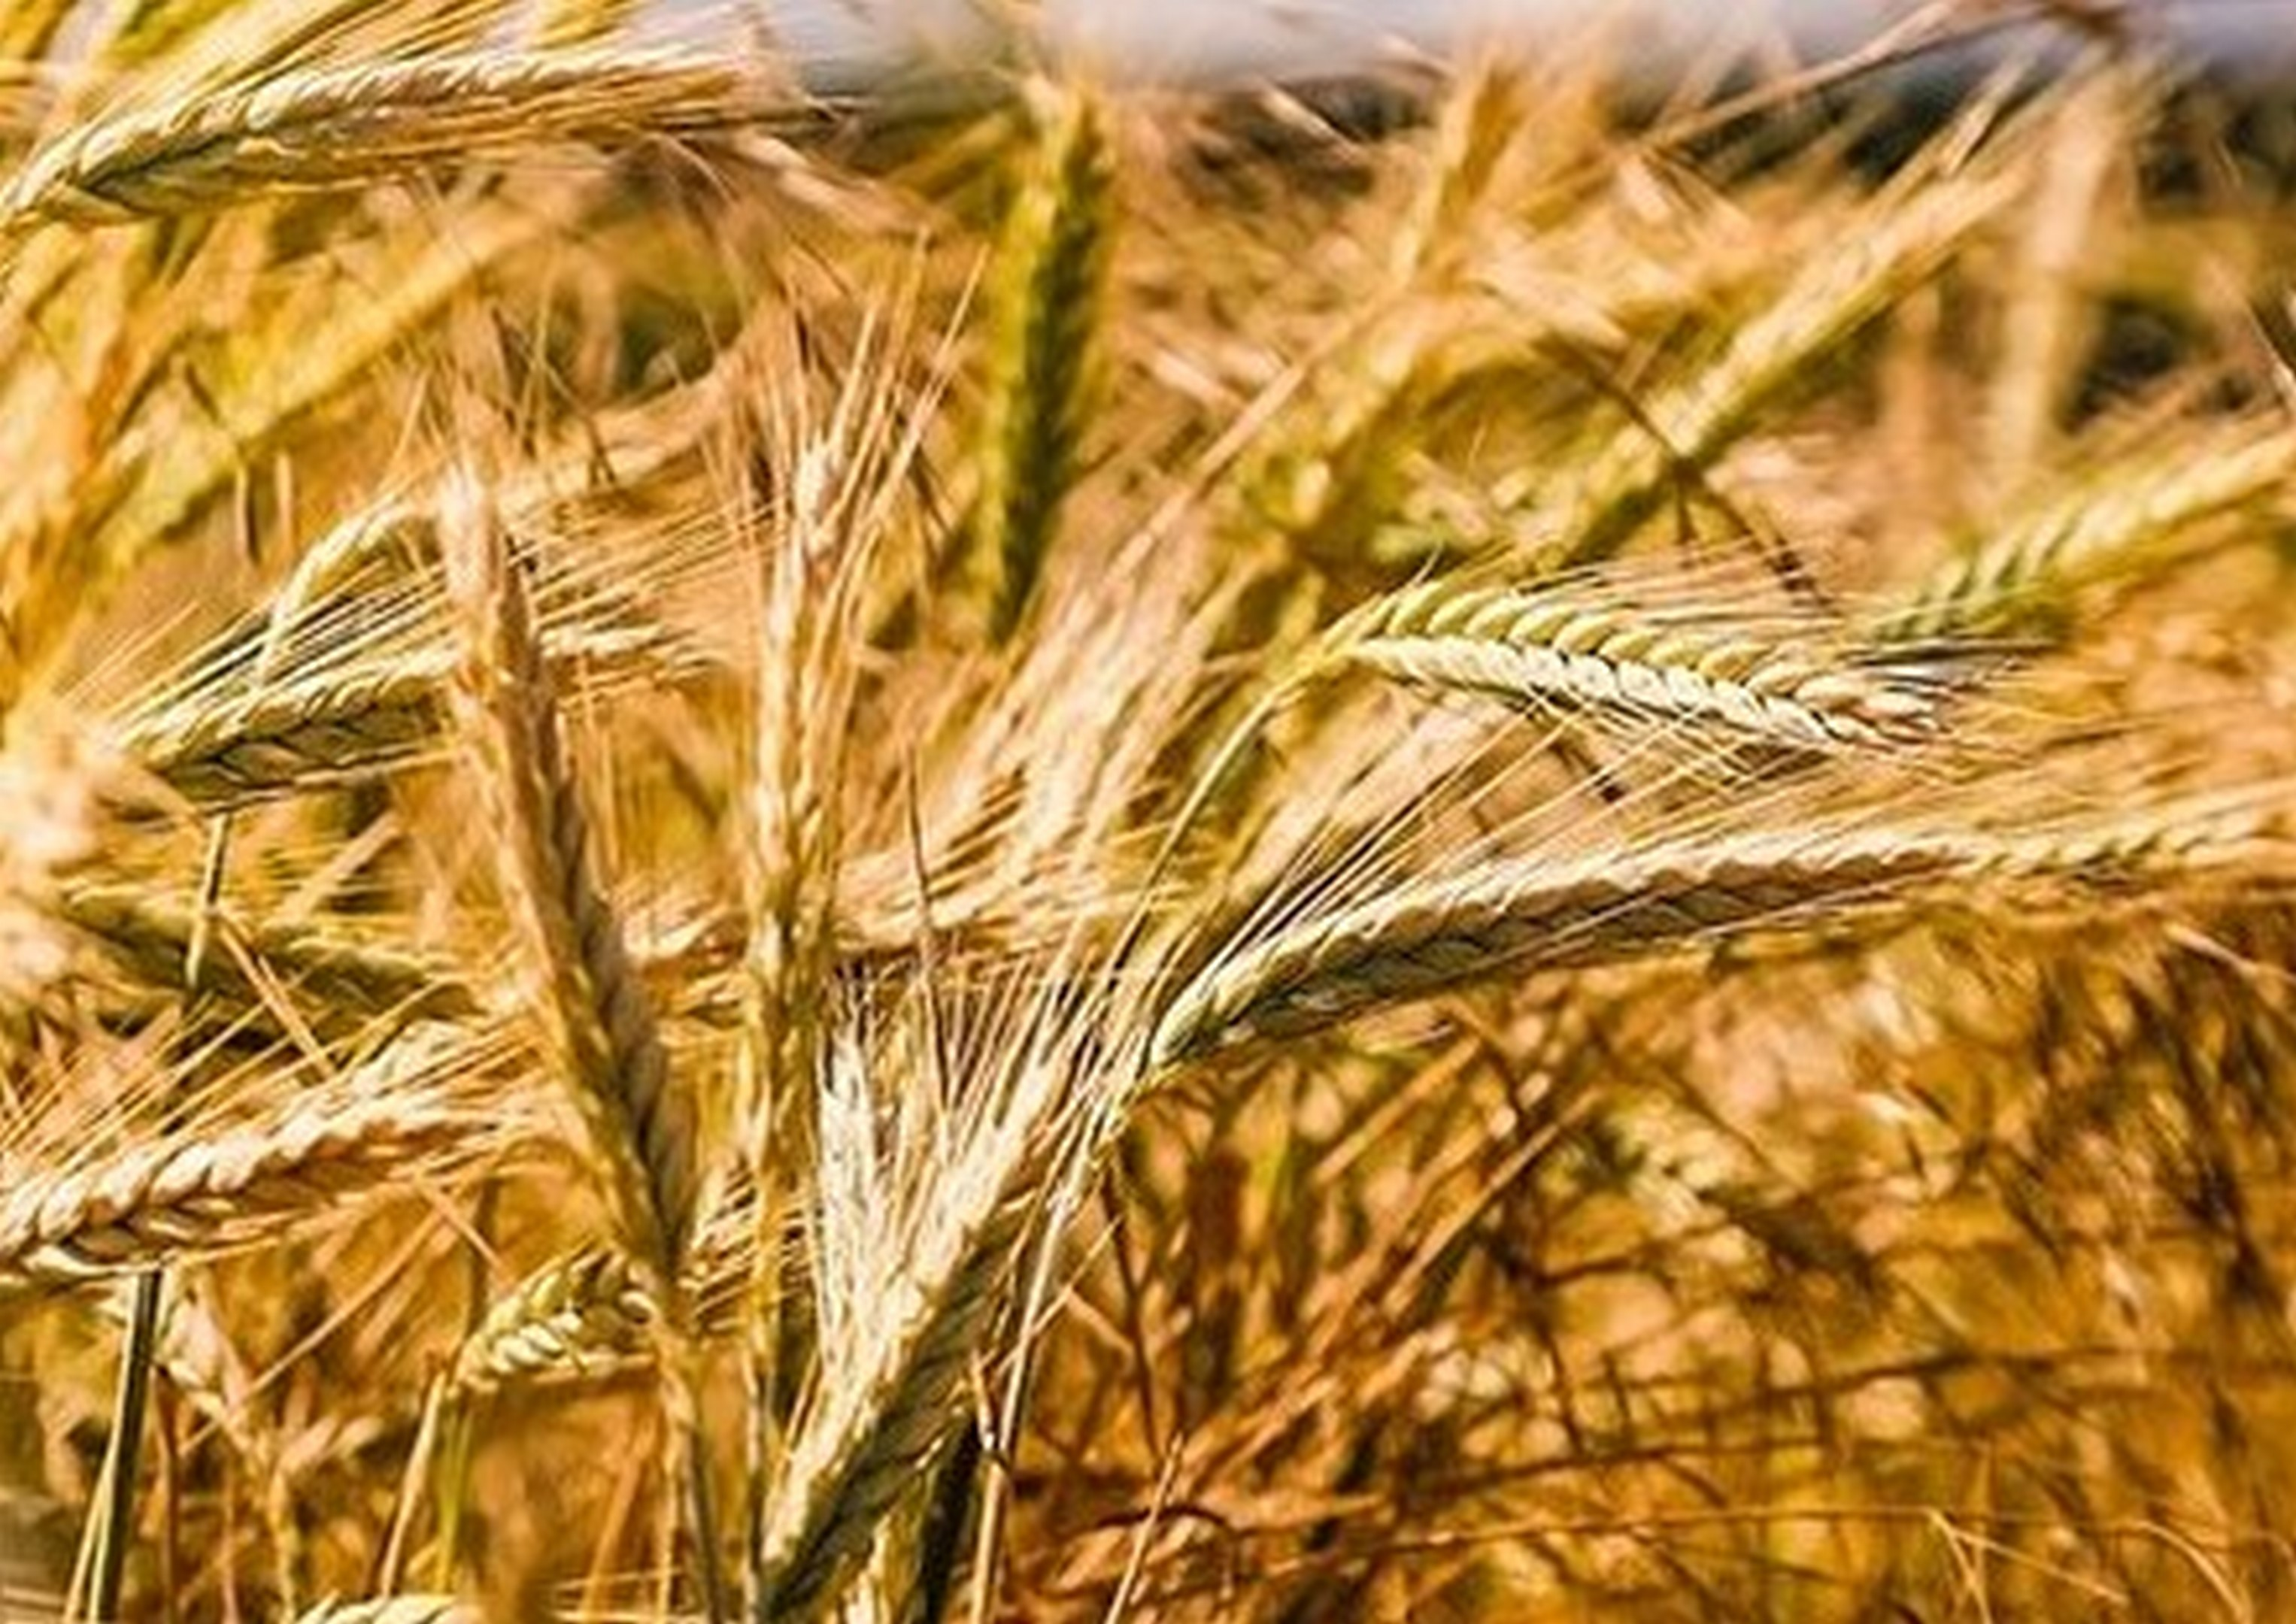Healthy Wheat: (1331, 573, 1932, 787)
